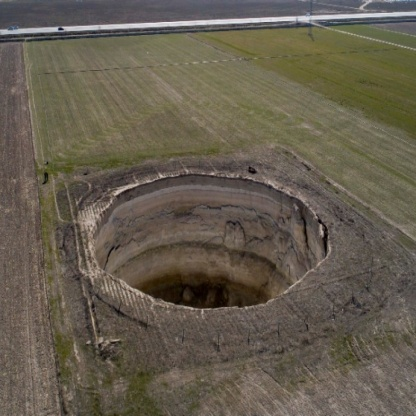pothole: (53, 157, 348, 328)
